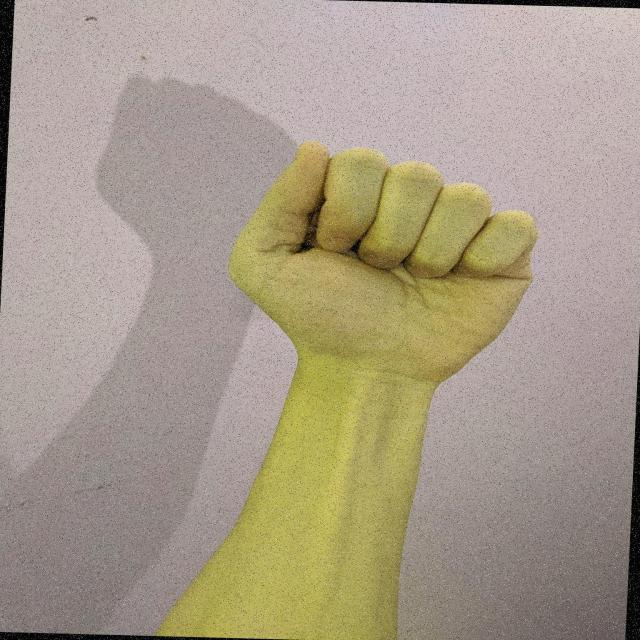A: (214, 132, 550, 403)
